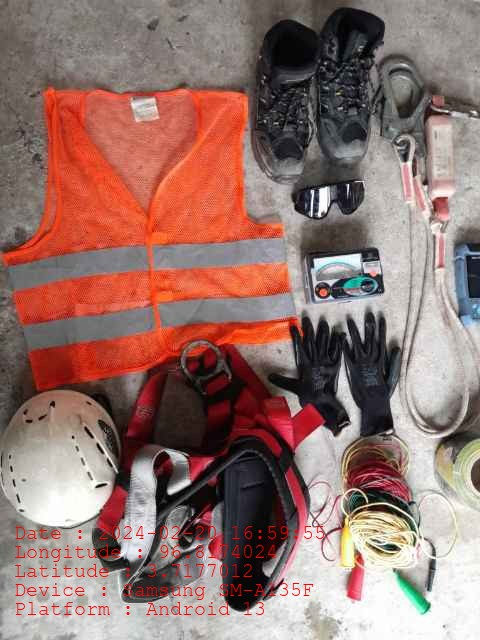HELM: (1, 387, 121, 529)
ROMPI: (38, 81, 255, 381)
SARUNG_TANGAN: (341, 310, 404, 438), (275, 317, 345, 431)
SEPATU: (251, 5, 385, 185)
TAMBANG_SLING: (393, 54, 471, 435)
